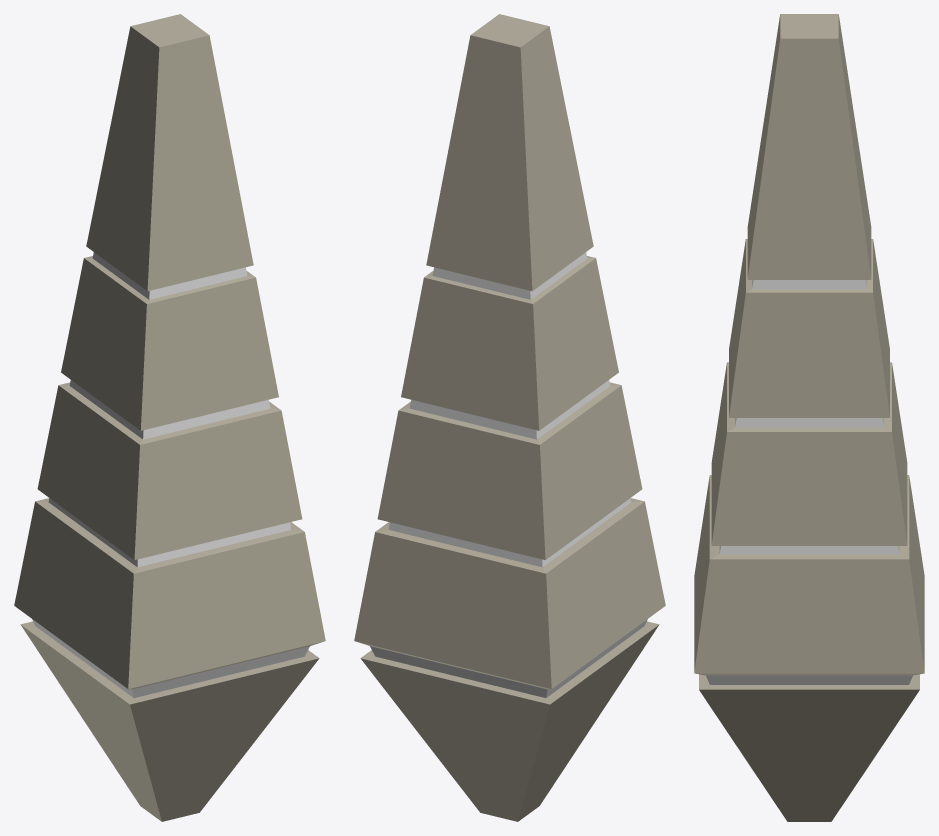
File: obelisk_2.fbx
The picture shows the model from 3 angles, left to right: view 1: azimuth 30°, elevation 25°; view 2: azimuth 150°, elevation 25°; view 3: azimuth 270°, elevation 25°; orthographic projection.
Parts seen in each view (by area): view 1: obelisk_2; view 2: obelisk_2; view 3: obelisk_2.
Part boxes in pixels (box(x1,y1,x2,y2)): obelisk_2: box(14, 14, 325, 821); obelisk_2: box(354, 14, 665, 821); obelisk_2: box(694, 14, 924, 821).
Size of the model in its own units: 2.39 by 9 by 2.39.
